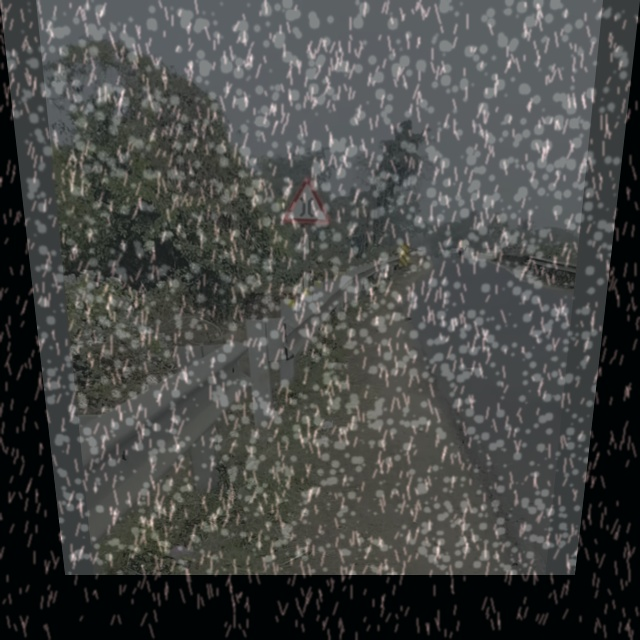Narrow_Bridge: (284, 176, 331, 225)
